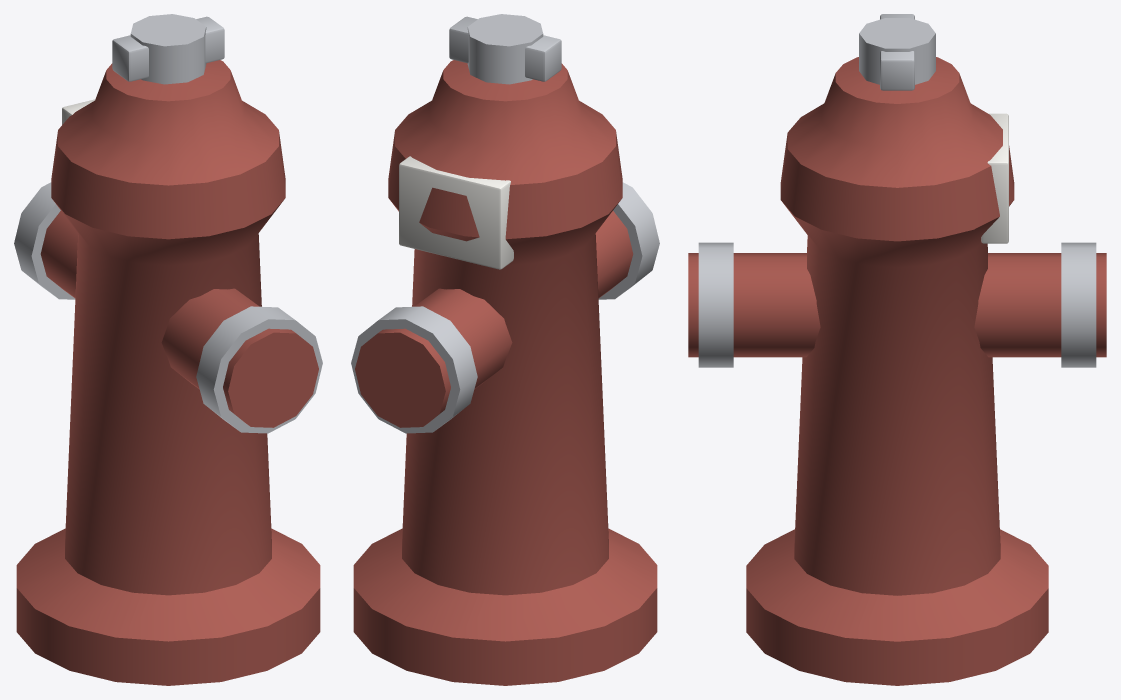
File: th43_hydrant.glb
The picture shows the model from 3 angles, left to right: view 1: azimuth 30°, elevation 25°; view 2: azimuth 150°, elevation 25°; view 3: azimuth 270°, elevation 25°; orthographic projection.
Parts seen in each view (by area): view 1: Hydrant, Cylinder, Cylinder.001, Cylinder.004, Cylinder.003, Cube, Cylinder.002; view 2: Hydrant, Cylinder.002, Cube.001, Cylinder.003, Cylinder.004, Cylinder.001, Cube, Cylinder; view 3: Hydrant, Cylinder, Cylinder.002, Cylinder.001, Cylinder.003, Cylinder.004, Cube.001, Cube.
Part boxes in pixels (<box>): Hydrant: <box>16,60,320,685</box>; Cylinder: <box>161,288,318,427</box>; Cylinder.001: <box>196,306,322,433</box>; Cylinder.004: <box>130,14,206,84</box>; Cylinder.003: <box>14,182,75,299</box>; Cube: <box>112,16,224,81</box>; Cylinder.002: <box>40,211,78,297</box>; Hydrant: <box>353,60,657,685</box>; Cylinder.002: <box>355,288,512,427</box>; Cube.001: <box>399,156,513,269</box>; Cylinder.003: <box>351,306,477,433</box>; Cylinder.004: <box>467,14,543,84</box>; Cylinder.001: <box>598,182,659,299</box>; Cube: <box>449,16,561,81</box>; Cylinder: <box>595,211,633,297</box>; Hydrant: <box>746,57,1048,685</box>; Cylinder: <box>688,253,820,357</box>; Cylinder.002: <box>974,253,1106,357</box>; Cylinder.001: <box>698,242,733,367</box>; Cylinder.003: <box>1061,242,1096,367</box>; Cylinder.004: <box>859,18,935,84</box>; Cube.001: <box>981,113,1008,243</box>; Cube: <box>880,14,914,90</box>.
Bounding box in the file's own units: 0.44 × 0.93 × 0.6.
